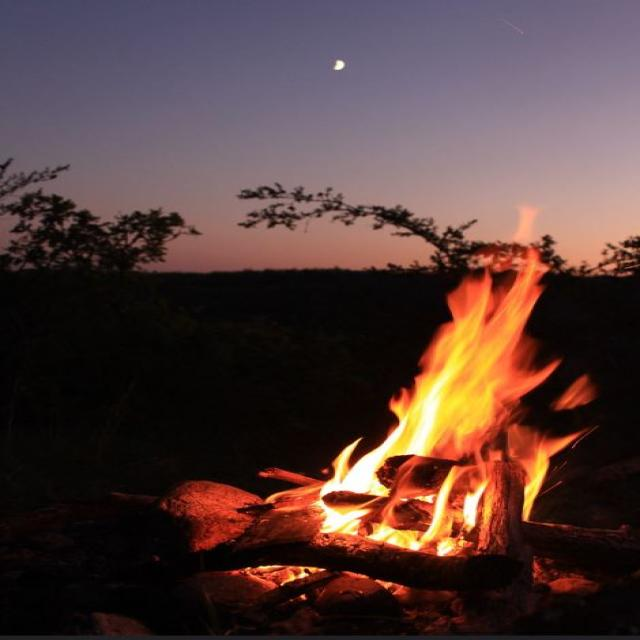fire: (302, 305, 569, 563)
